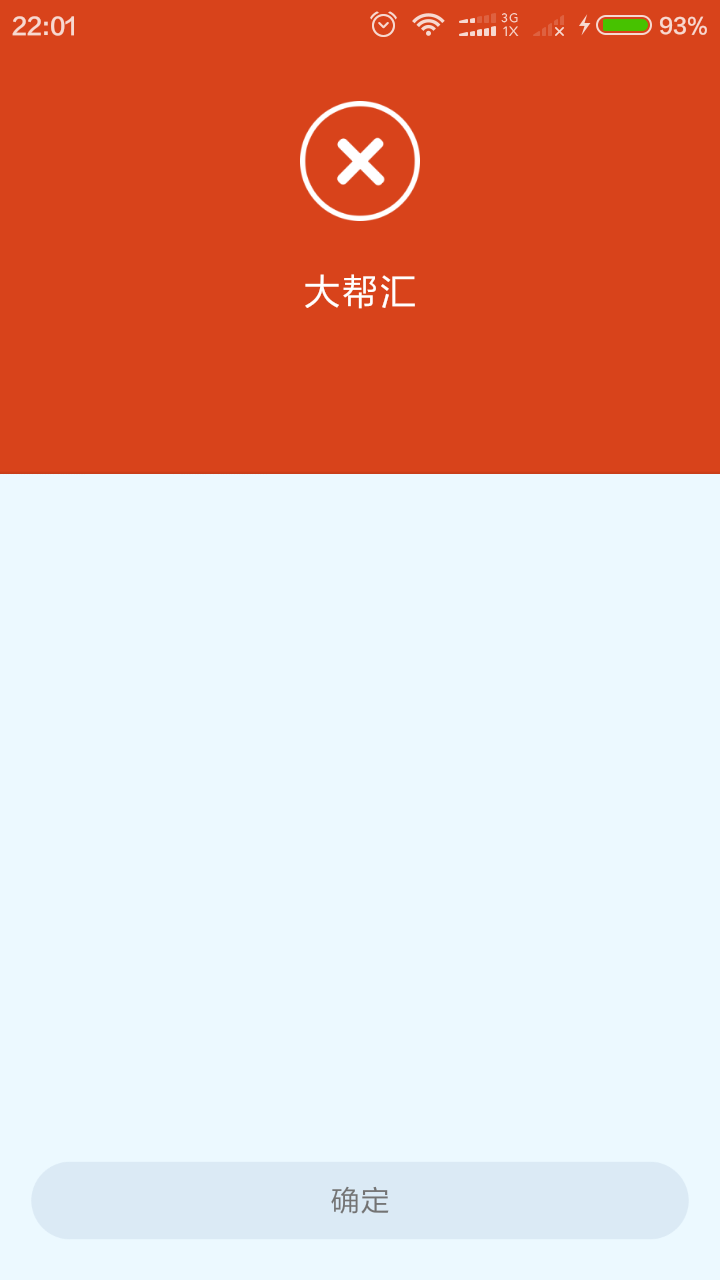button: (21, 1157, 695, 1248)
imgview: (289, 92, 425, 226)
